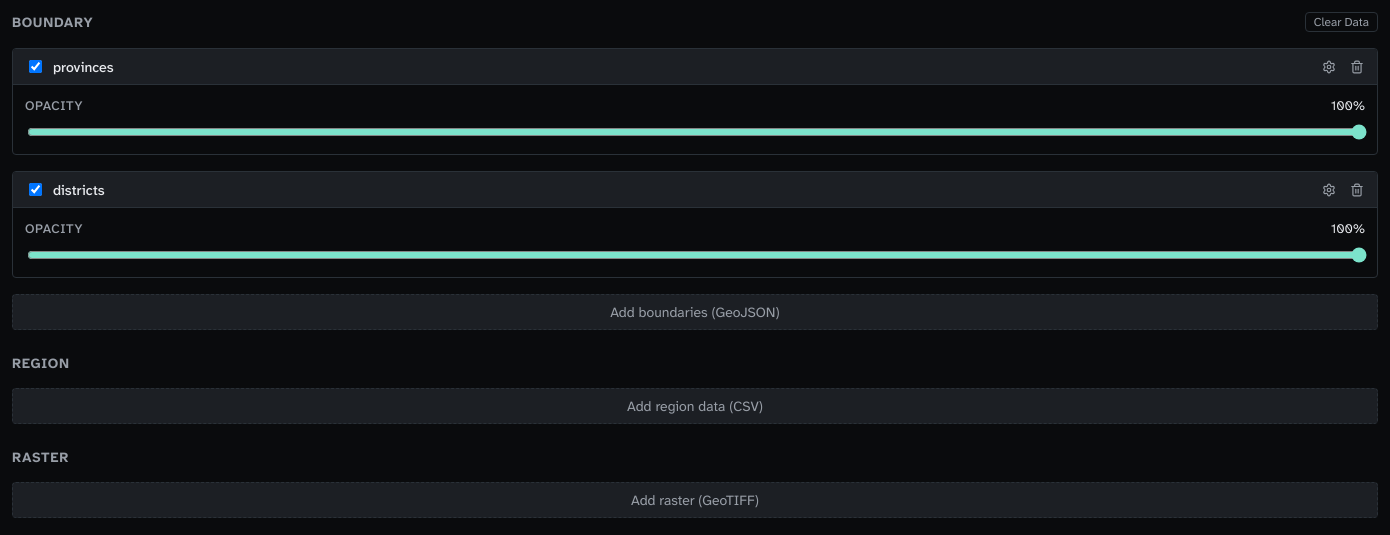
Test: LayersPanel › trash icon removes only that boundary and leaves the others
Click the button named "Remove provinces": (1357, 66) [1345,54,1369,78]
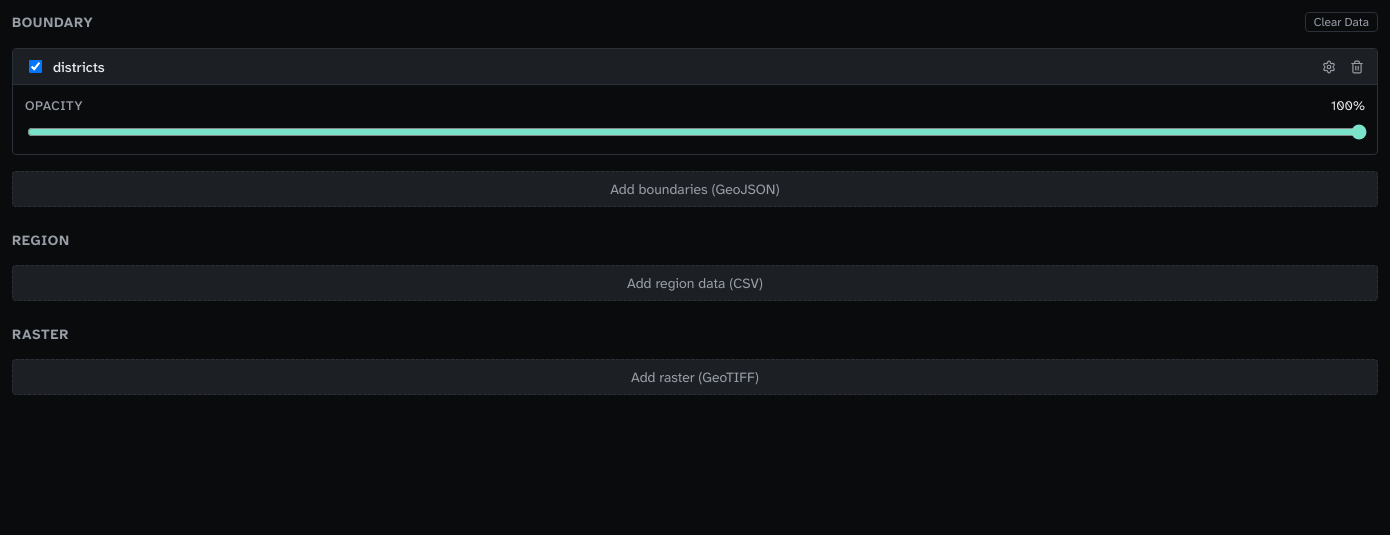
Expected: the element with test id "layer-card-ov-2" is shown, [12,48,1378,155]
Now the element with test id "layer-card-ov-1" is gone
